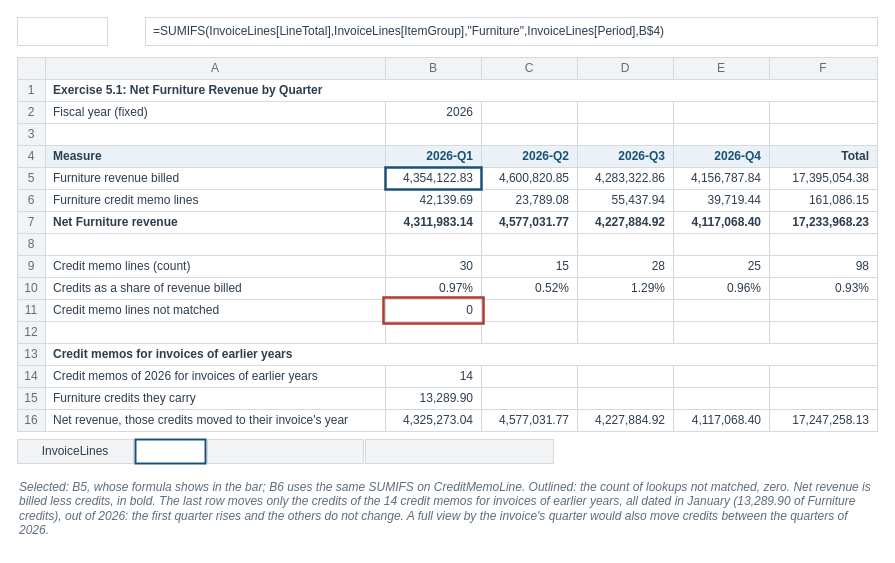
This 895x563 diagram has some shape labels left out. The shapes that lost their labels are listed below. From the top down, each one's box as (x1, y1, x2, y2) in pixels, then its label:
(16, 16, 108, 46): B5
(110, 16, 142, 46): fx
(134, 438, 206, 464): Ex 5.1
(206, 438, 364, 464): Ex 5.1 CreditMemo
(364, 438, 554, 464): Ex 5.1 CreditMemoLine
